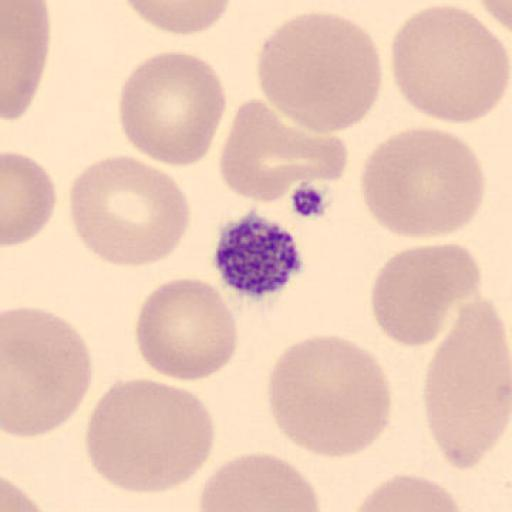Platelet: (211, 208, 307, 301)
RBC: (265, 332, 393, 461), (85, 376, 217, 497), (256, 10, 384, 134), (424, 294, 512, 468), (389, 2, 512, 124), (358, 126, 486, 241), (68, 152, 192, 270), (217, 96, 350, 203), (118, 50, 228, 167), (3, 304, 94, 438), (370, 242, 484, 348), (134, 276, 240, 384), (197, 451, 322, 512), (2, 0, 52, 123), (2, 150, 58, 248), (350, 471, 464, 512), (120, 0, 234, 37), (2, 475, 52, 512), (476, 0, 511, 32)
